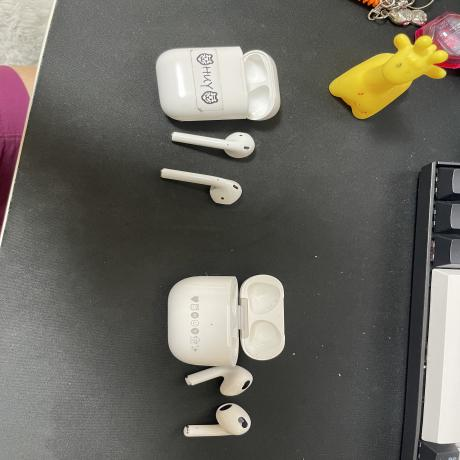airpod2: (151, 38, 286, 212)
airpod3: (158, 263, 290, 448)
